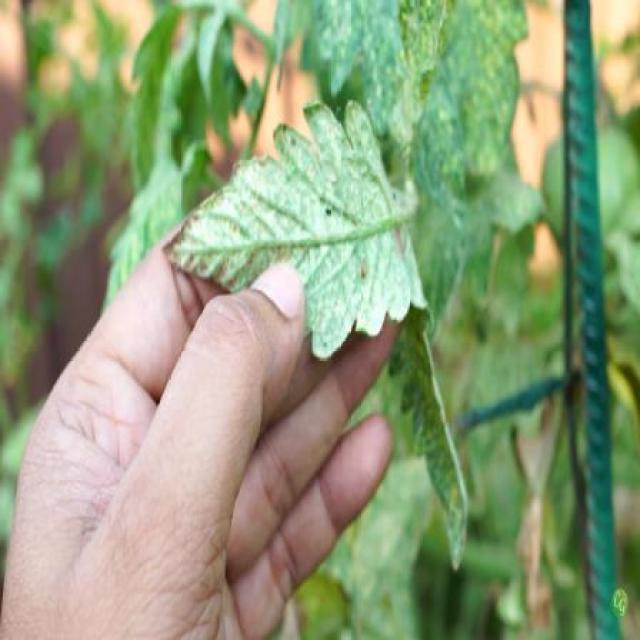Spider Mites: (162, 98, 429, 363), (384, 310, 474, 579)
